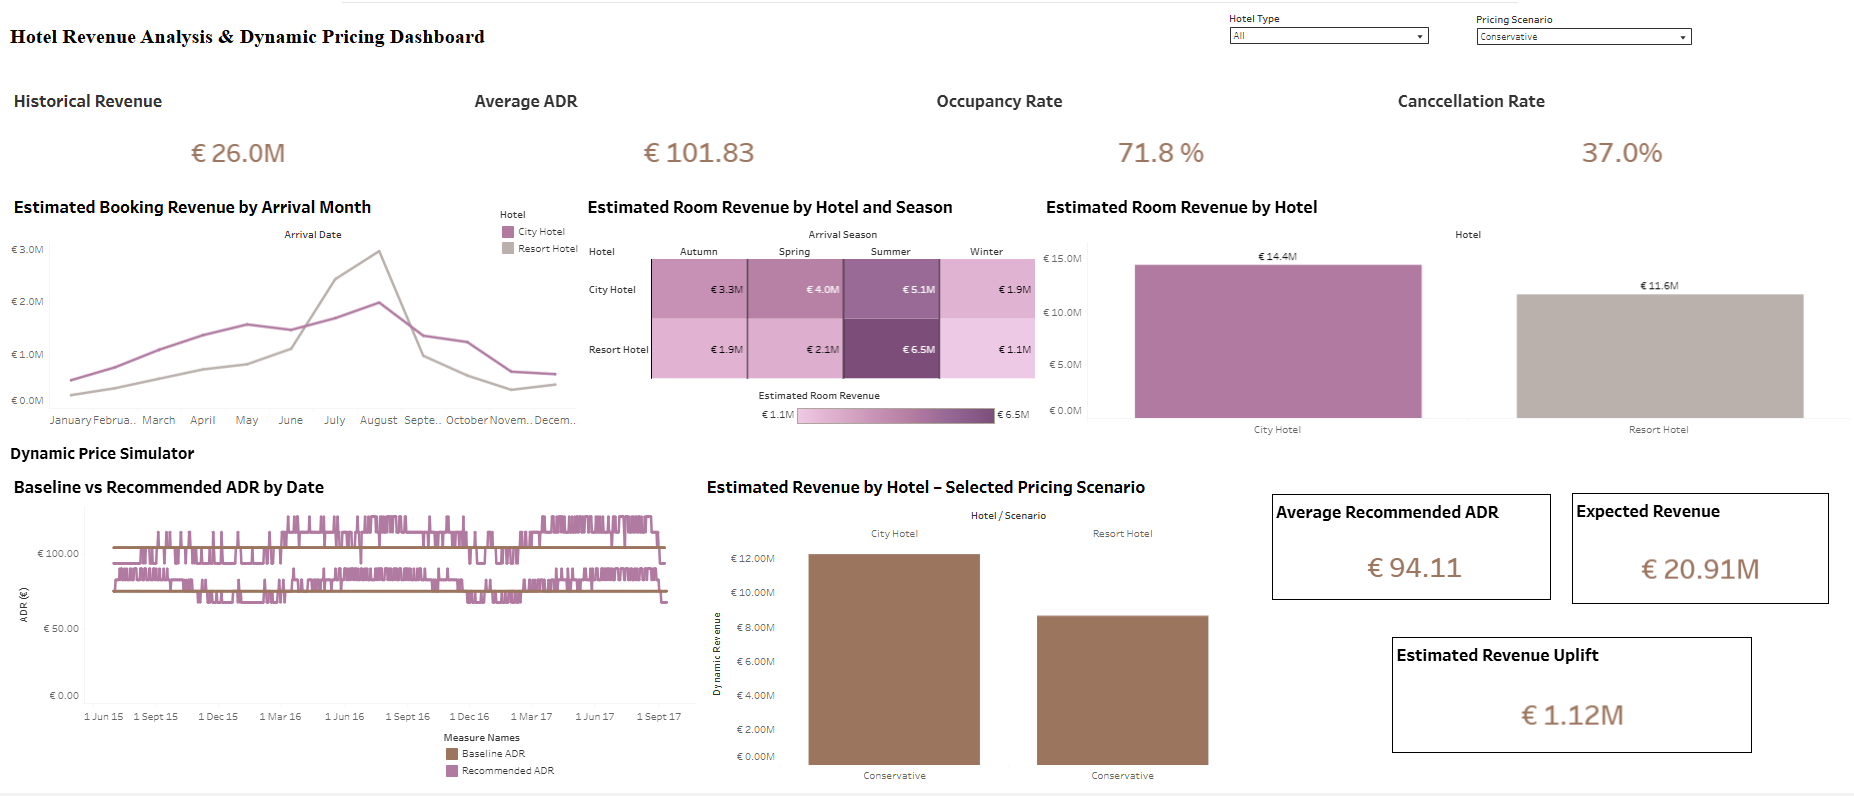

The dashboard page shown, as its layout file describes it:
{"tool":"tableau","page":{"name":"Dashboard 1","canvas":[1000,1000],"units":"permille","ordinal":0},"visuals":[{"type":"title","box":[4.7,8.9,990.6,71.4]},{"type":"parameter","param":"[Parameters].[Parameter 1289239097421824]","box":[660.8,10.3,108,64.9]},{"type":"parameter","param":"[Parameters].[Parameter 1289239100256259]","box":[793.6,11.3,116.5,61.8]},{"type":"worksheet","title":"Historical Revenue","mark":"Text","box":[4.7,98.4,247.7,133.7]},{"type":"worksheet","title":"Average ADR","mark":"Automatic","box":[252.3,98.4,247.7,133.7]},{"type":"worksheet","title":"Occupancy Rate","mark":"Automatic","box":[500,98.4,247.7,133.7]},{"type":"worksheet","title":"Canccellation Rate","mark":"Automatic","box":[747.7,98.4,247.7,133.7]},{"type":"worksheet","title":"Monthly Revenue ","mark":"Automatic","rows":["Calculation_1568235571548160"],"cols":["arrival_date"],"box":[4.7,232.1,399.7,321.1]},{"type":"worksheet","title":"Seasonality Heatmap","mark":"Square","rows":["hotel"],"cols":["arrival_season"],"box":[404.3,232.1,319.5,321.1]},{"type":"worksheet","title":"Hotel Revenue Comparison","mark":"Bar","rows":["Calculation_1568235571548160"],"cols":["hotel"],"box":[723.8,232.1,271.5,321.1]},{"type":"legend","title":"Monthly Revenue ","param":"[federated.1f46ksg0stpe1q1g6pql31pomz7w].[none:hotel:nk]","box":[326.2,279.1,88,71.1]},{"type":"legend","title":"Seasonality Heatmap","param":"[federated.1f46ksg0stpe1q1g6pql31pomz7w].[sum:Calculation_1568235571548160:qk]","box":[530.1,506.7,148.6,52.5]},{"type":"text","box":[4.7,553.2,990.6,33.8]},{"type":"worksheet","title":"Daily Pricing Overview","mark":"Line","cols":["date"],"box":[4.7,587,371.8,404]},{"type":"worksheet","title":"Scenario Revenue Comparison.","mark":"Bar","rows":["dynamic_revenue"],"cols":["hotel","scenario"],"box":[376.5,587,289.8,404]},{"type":"worksheet","title":"KPI – Expected Revenue","mark":"Automatic","box":[844.9,620,138.2,142.1]},{"type":"worksheet","title":"KPI – Recommended Price","mark":"Automatic","box":[684,622.8,149.8,133.9]},{"type":"worksheet","title":"KPI – Revenue Uplift","mark":"Automatic","box":[748.3,803.3,193.7,146.2]},{"type":"legend","title":"Daily Pricing Overview","param":"[federated.1udeyc015xle6a1d4pkq111d41ed].[:Measure Names]","box":[238.4,920.7,117.1,69]}]}

Visuals, with their boxes on the dashboard's canvas, which has no fixed pixel size, in thousandths of its width and height (x1, y1, x2, y2). These are canvas units, not pixel positions in the 1854x796 screenshot, which may show the page scaled, cropped or inside an application window:
title: left=5, top=9, right=995, bottom=80
parameter: left=661, top=10, right=769, bottom=75
parameter: left=794, top=11, right=910, bottom=73
"Historical Revenue" worksheet (Text marks): left=5, top=98, right=252, bottom=232
"Average ADR" worksheet: left=252, top=98, right=500, bottom=232
"Occupancy Rate" worksheet: left=500, top=98, right=748, bottom=232
"Canccellation Rate" worksheet: left=748, top=98, right=995, bottom=232
"Monthly Revenue " worksheet: left=5, top=232, right=404, bottom=553
"Seasonality Heatmap" worksheet (Square marks): left=404, top=232, right=724, bottom=553
"Hotel Revenue Comparison" worksheet (Bar marks): left=724, top=232, right=995, bottom=553
"Monthly Revenue " legend: left=326, top=279, right=414, bottom=350
"Seasonality Heatmap" legend: left=530, top=507, right=679, bottom=559
text: left=5, top=553, right=995, bottom=587
"Daily Pricing Overview" worksheet (Line marks): left=5, top=587, right=376, bottom=991
"Scenario Revenue Comparison." worksheet (Bar marks): left=376, top=587, right=666, bottom=991
"KPI – Expected Revenue" worksheet: left=845, top=620, right=983, bottom=762
"KPI – Recommended Price" worksheet: left=684, top=623, right=834, bottom=757
"KPI – Revenue Uplift" worksheet: left=748, top=803, right=942, bottom=950
"Daily Pricing Overview" legend: left=238, top=921, right=356, bottom=990
